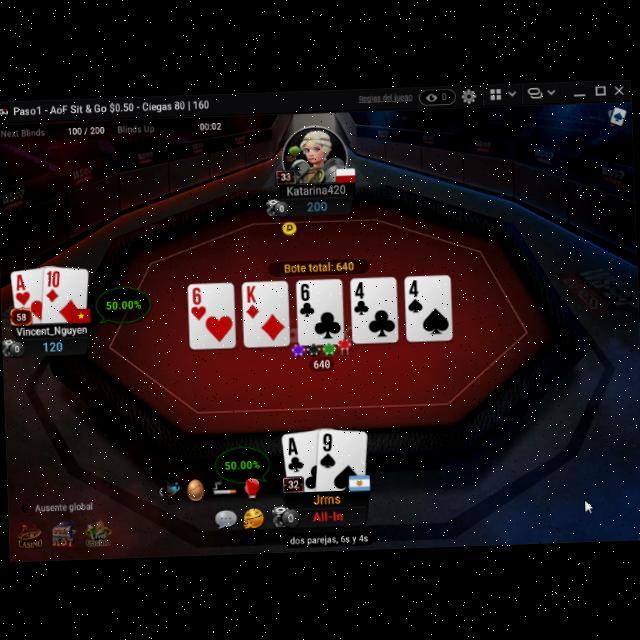4c: (352, 279, 370, 316)
4s: (404, 277, 424, 314)
6c: (297, 280, 315, 317)
6h: (190, 284, 206, 320)
9s: (316, 430, 336, 470)
Ac: (286, 434, 306, 474)
Ah: (14, 272, 32, 306)
Kd: (243, 282, 260, 319)
Td: (44, 266, 62, 303)
all_in_symbol: (310, 504, 344, 522)
bet_text: (312, 358, 330, 368)
dealer: (280, 218, 298, 235)
pot_text: (283, 257, 355, 271)
stack_text: (304, 196, 328, 212), (43, 337, 64, 352)
